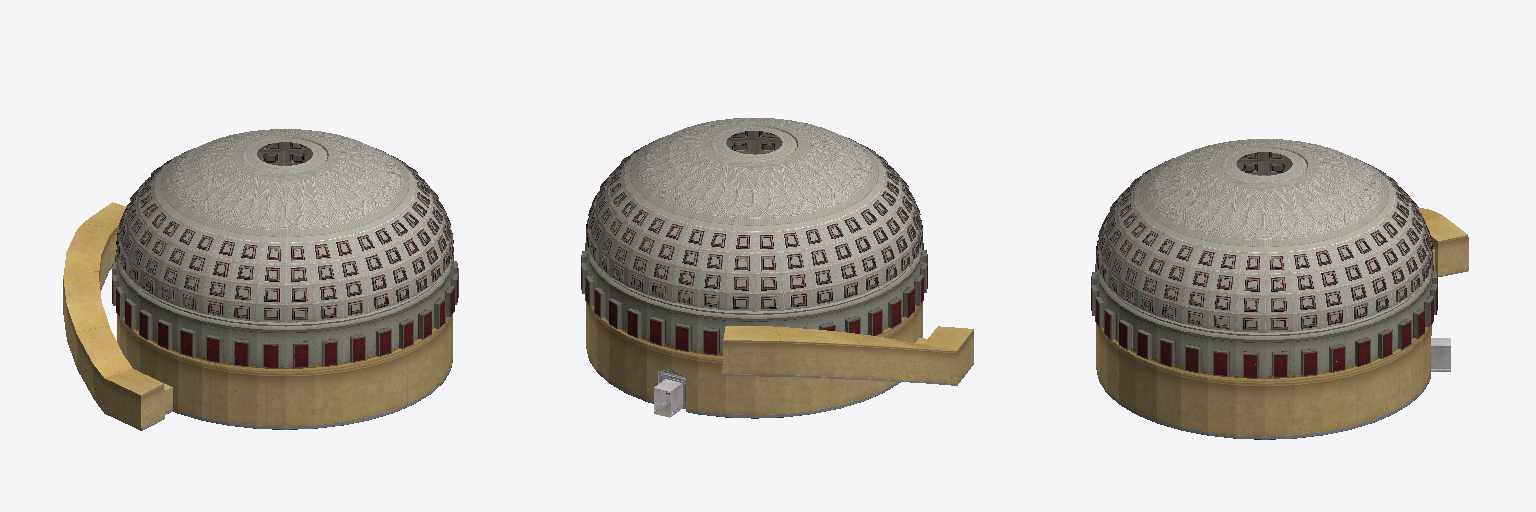
3 renders of one model, left to right at view 1: azimuth 30°, elevation 25°; view 2: azimuth 150°, elevation 25°; view 3: azimuth 270°, elevation 25°, orthographic.
Parts seen in each view (by area): view 1: Spawn_Dach_Segment009, Spawn_Wand_Standart_Segment011, Object021, Spawn_Wand_Standart_Segment013; view 2: Spawn_Dach_Segment009, Spawn_Wand_Standart_Segment011, Spawn_Wand_Standart_Segment013, Object021, Door; view 3: Spawn_Dach_Segment009, Spawn_Wand_Standart_Segment011, Spawn_Wand_Standart_Segment013, Object021, Door.
Part boxes in pixels (x1,y1,x2,y2): Spawn_Dach_Segment009: (112,129,458,371); Spawn_Wand_Standart_Segment011: (117,314,452,429); Object021: (63,202,163,394); Spawn_Wand_Standart_Segment013: (63,225,172,430); Spawn_Dach_Segment009: (581,118,927,358); Spawn_Wand_Standart_Segment011: (586,302,922,418); Spawn_Wand_Standart_Segment013: (722,329,973,385); Object021: (723,326,972,350); Door: (654,369,685,416); Spawn_Dach_Segment009: (1091,139,1437,381); Spawn_Wand_Standart_Segment011: (1096,324,1431,439); Spawn_Wand_Standart_Segment013: (1430,235,1468,276); Object021: (1419,208,1467,240); Door: (1431,338,1450,371).
Bounding box in the file's own units: 38.24 × 21.8 × 36.45.
Materials: 6 (5 with a texture image).